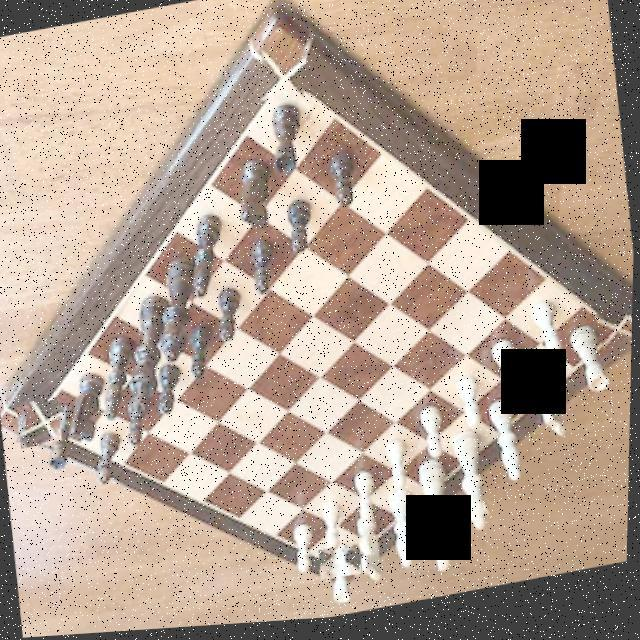chess-table-corners: (254, 46, 311, 110), (16, 397, 68, 452), (596, 312, 634, 363), (320, 547, 364, 585)
